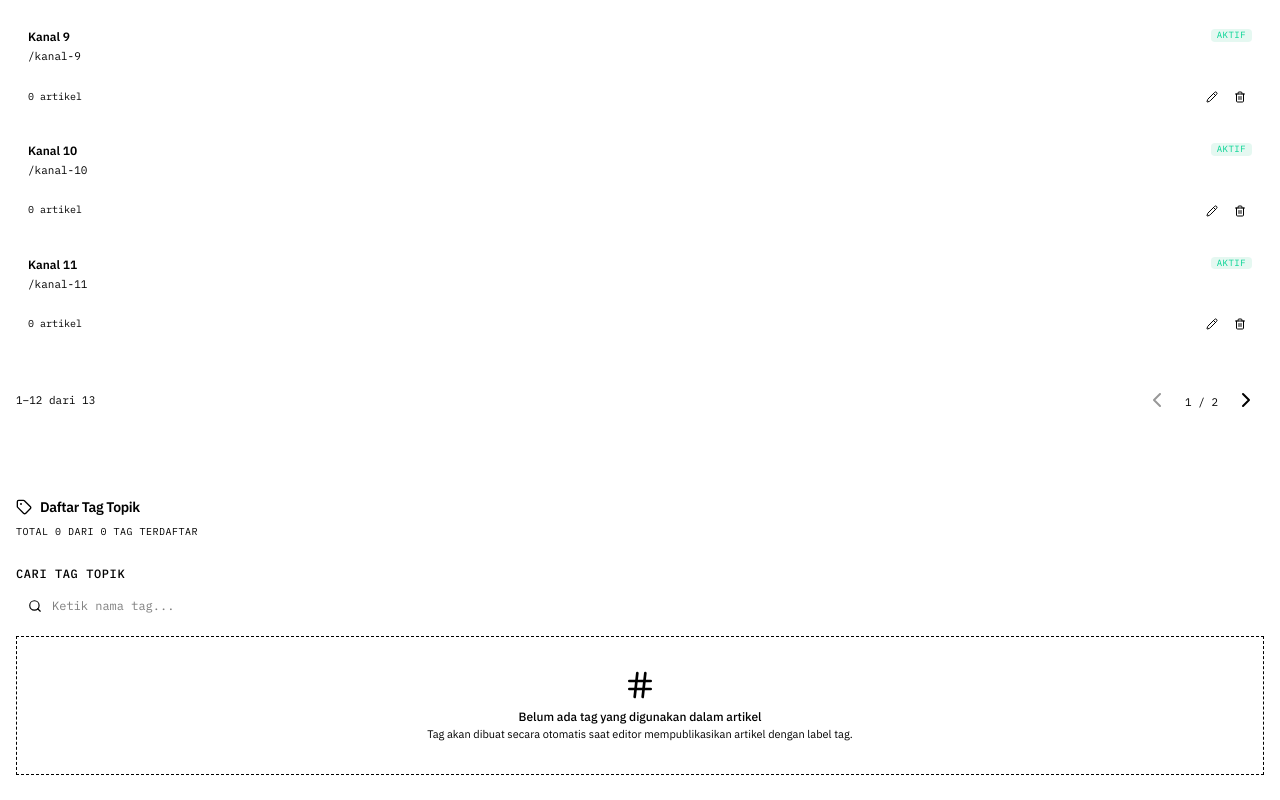
Scenario: TaxonomyManager › membagi daftar panjang menjadi halaman 12
The width and height of the screenshot is (1280, 800).
(page scrolled)
Expected: the text "Kanal 12" is not shown
Click the button named "Ke halaman kanal berikutnya" at (1246, 400), box left=1234, top=388, right=1258, bottom=412
(page scrolled)
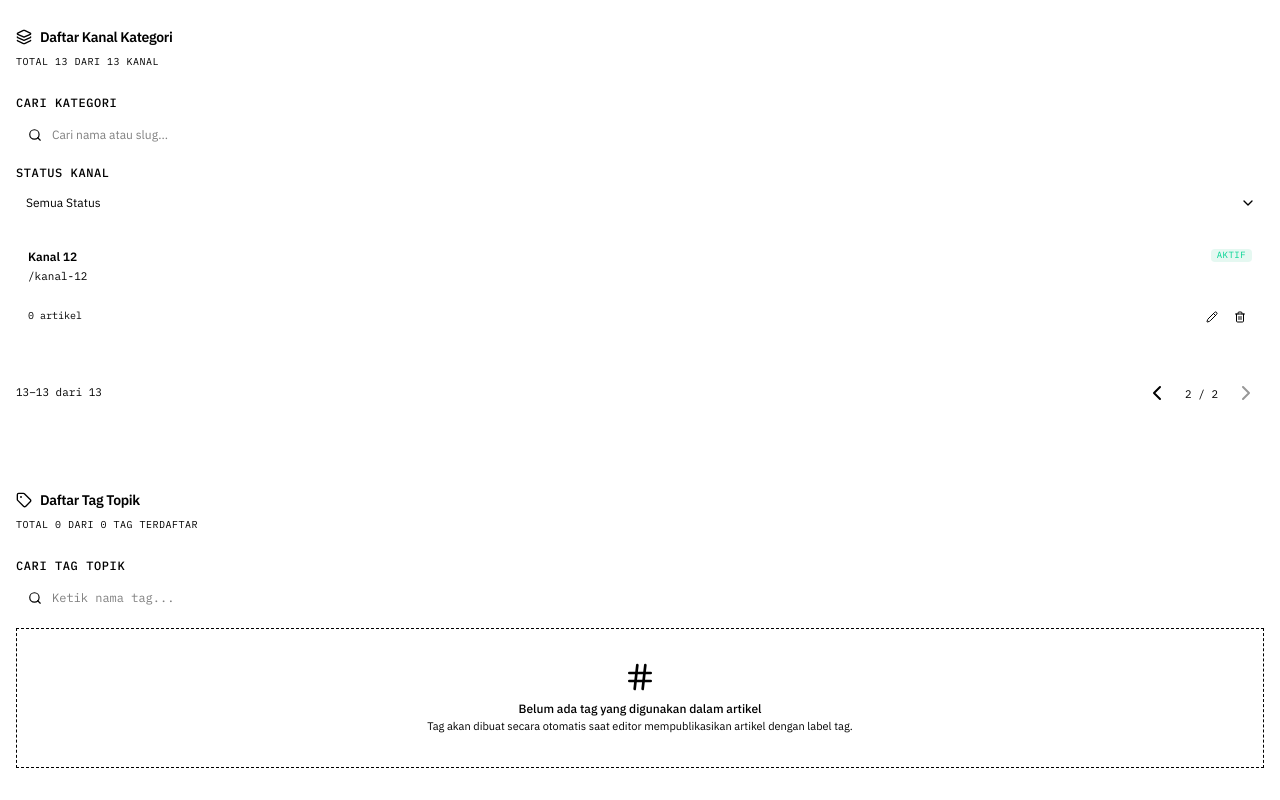
Result: the text "Kanal 12" is shown at left=28, top=249, right=77, bottom=264
